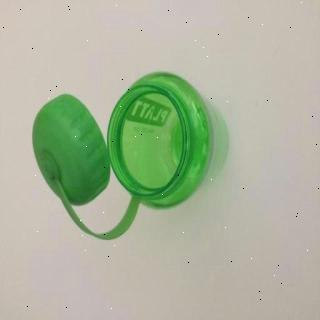Plastic-bottle: (33, 70, 229, 243)
